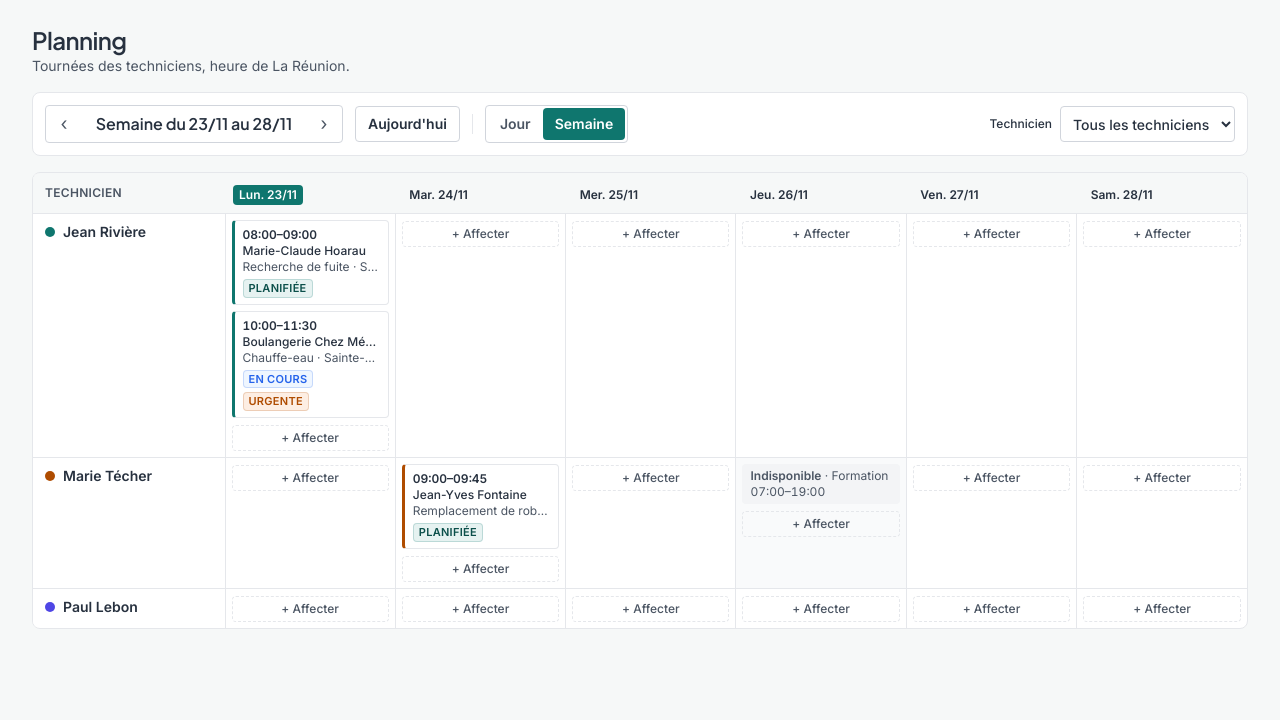
Test: affectation d'une intervention à une tournée › prévient quand aucune intervention n'attend d'être planifiée
Step 1. Click the button named "Affecter une intervention à Paul Lebon le lundi 23 novembre 2026" → click(310, 609), box top-left (232, 596), bottom-right (389, 622)
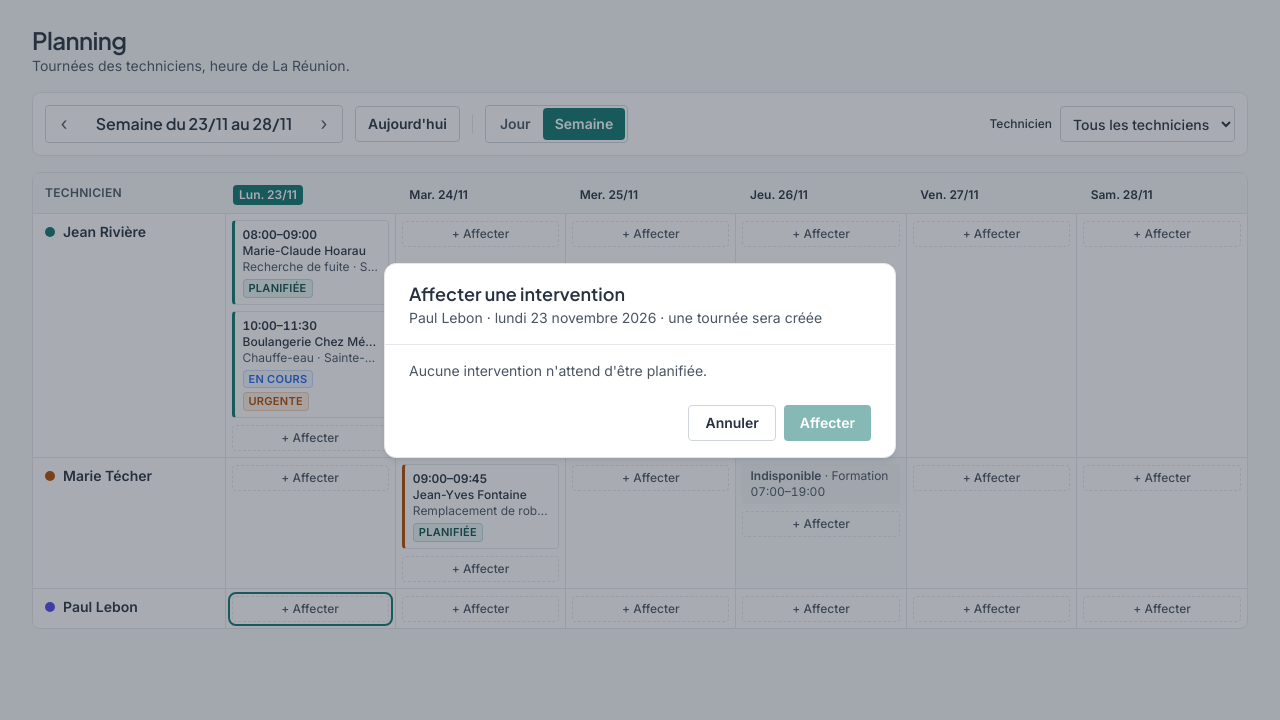
Now the text "Aucune intervention n'attend d'être planifiée." is shown, box top-left (409, 362), bottom-right (707, 378)
Now the button "Affecter" is disabled, box top-left (784, 404), bottom-right (871, 440)
